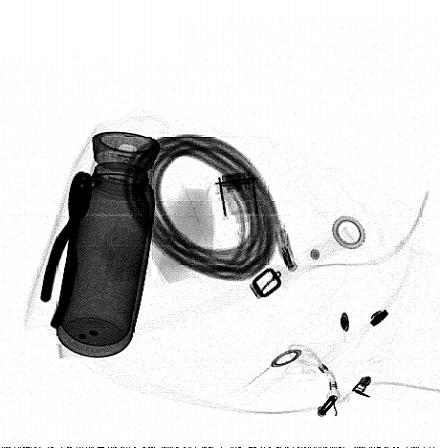Pliers: (38, 171, 92, 328)
